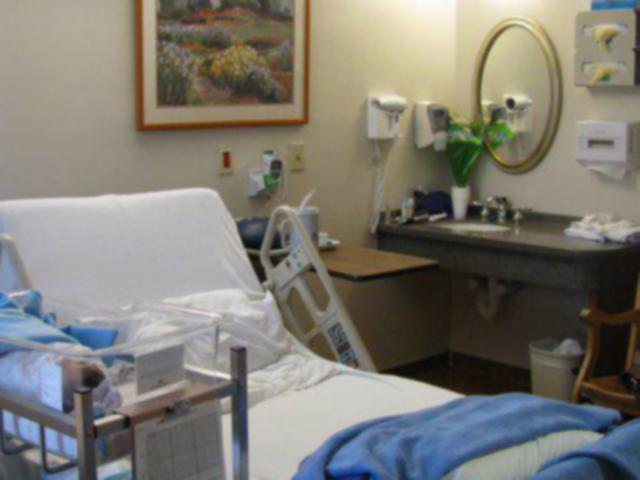Lavamanos: (433, 176, 528, 246)
Otro Obstaculo: (532, 330, 580, 397)
